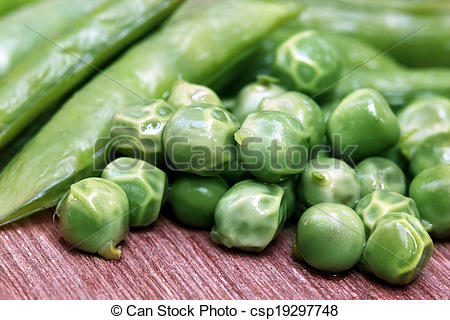boiled peas: (66, 83, 443, 255)
